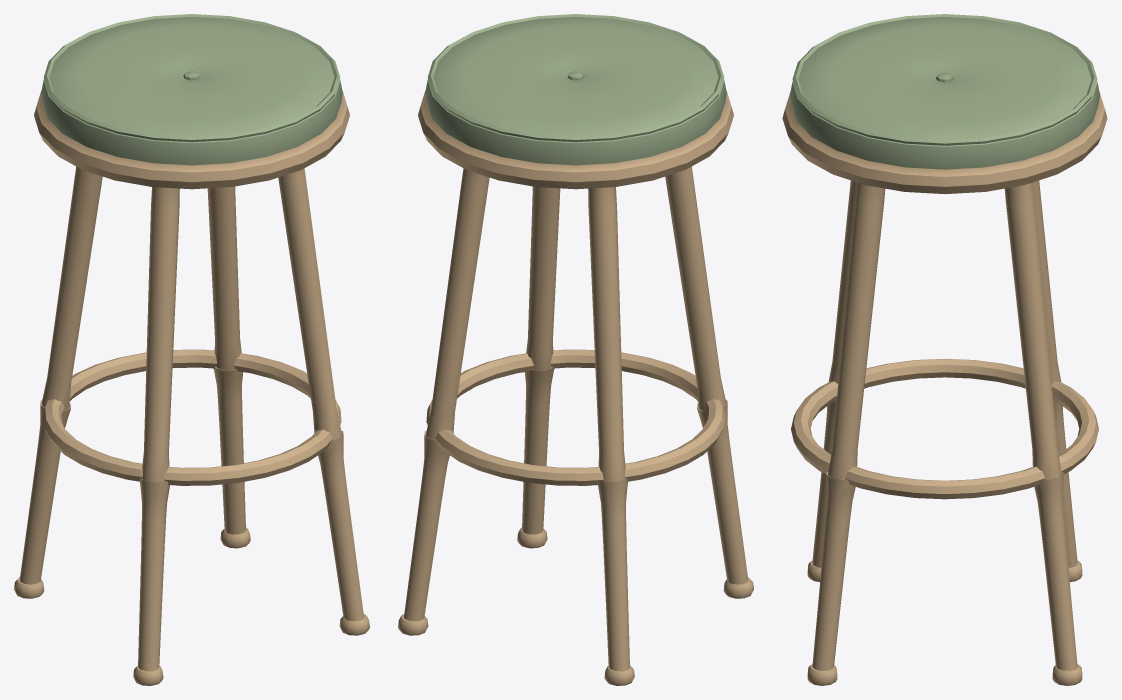
Rendered from barStool.glb.
3 renders of one model, left to right at view 1: azimuth 30°, elevation 25°; view 2: azimuth 150°, elevation 25°; view 3: azimuth 270°, elevation 25°, orthographic. The views are drawn at different scales.
Parts seen in each view (by area): view 1: base, seat; view 2: base, seat; view 3: seat, base.
Part boxes in pixels (x1,y1,x2,y2): base: [14, 166, 369, 685]; seat: [34, 14, 349, 189]; base: [398, 166, 753, 685]; seat: [418, 14, 733, 189]; seat: [782, 14, 1107, 193]; base: [791, 180, 1098, 685].
Bounding box in the file's own units: 0.394 × 0.7398 × 0.394.
